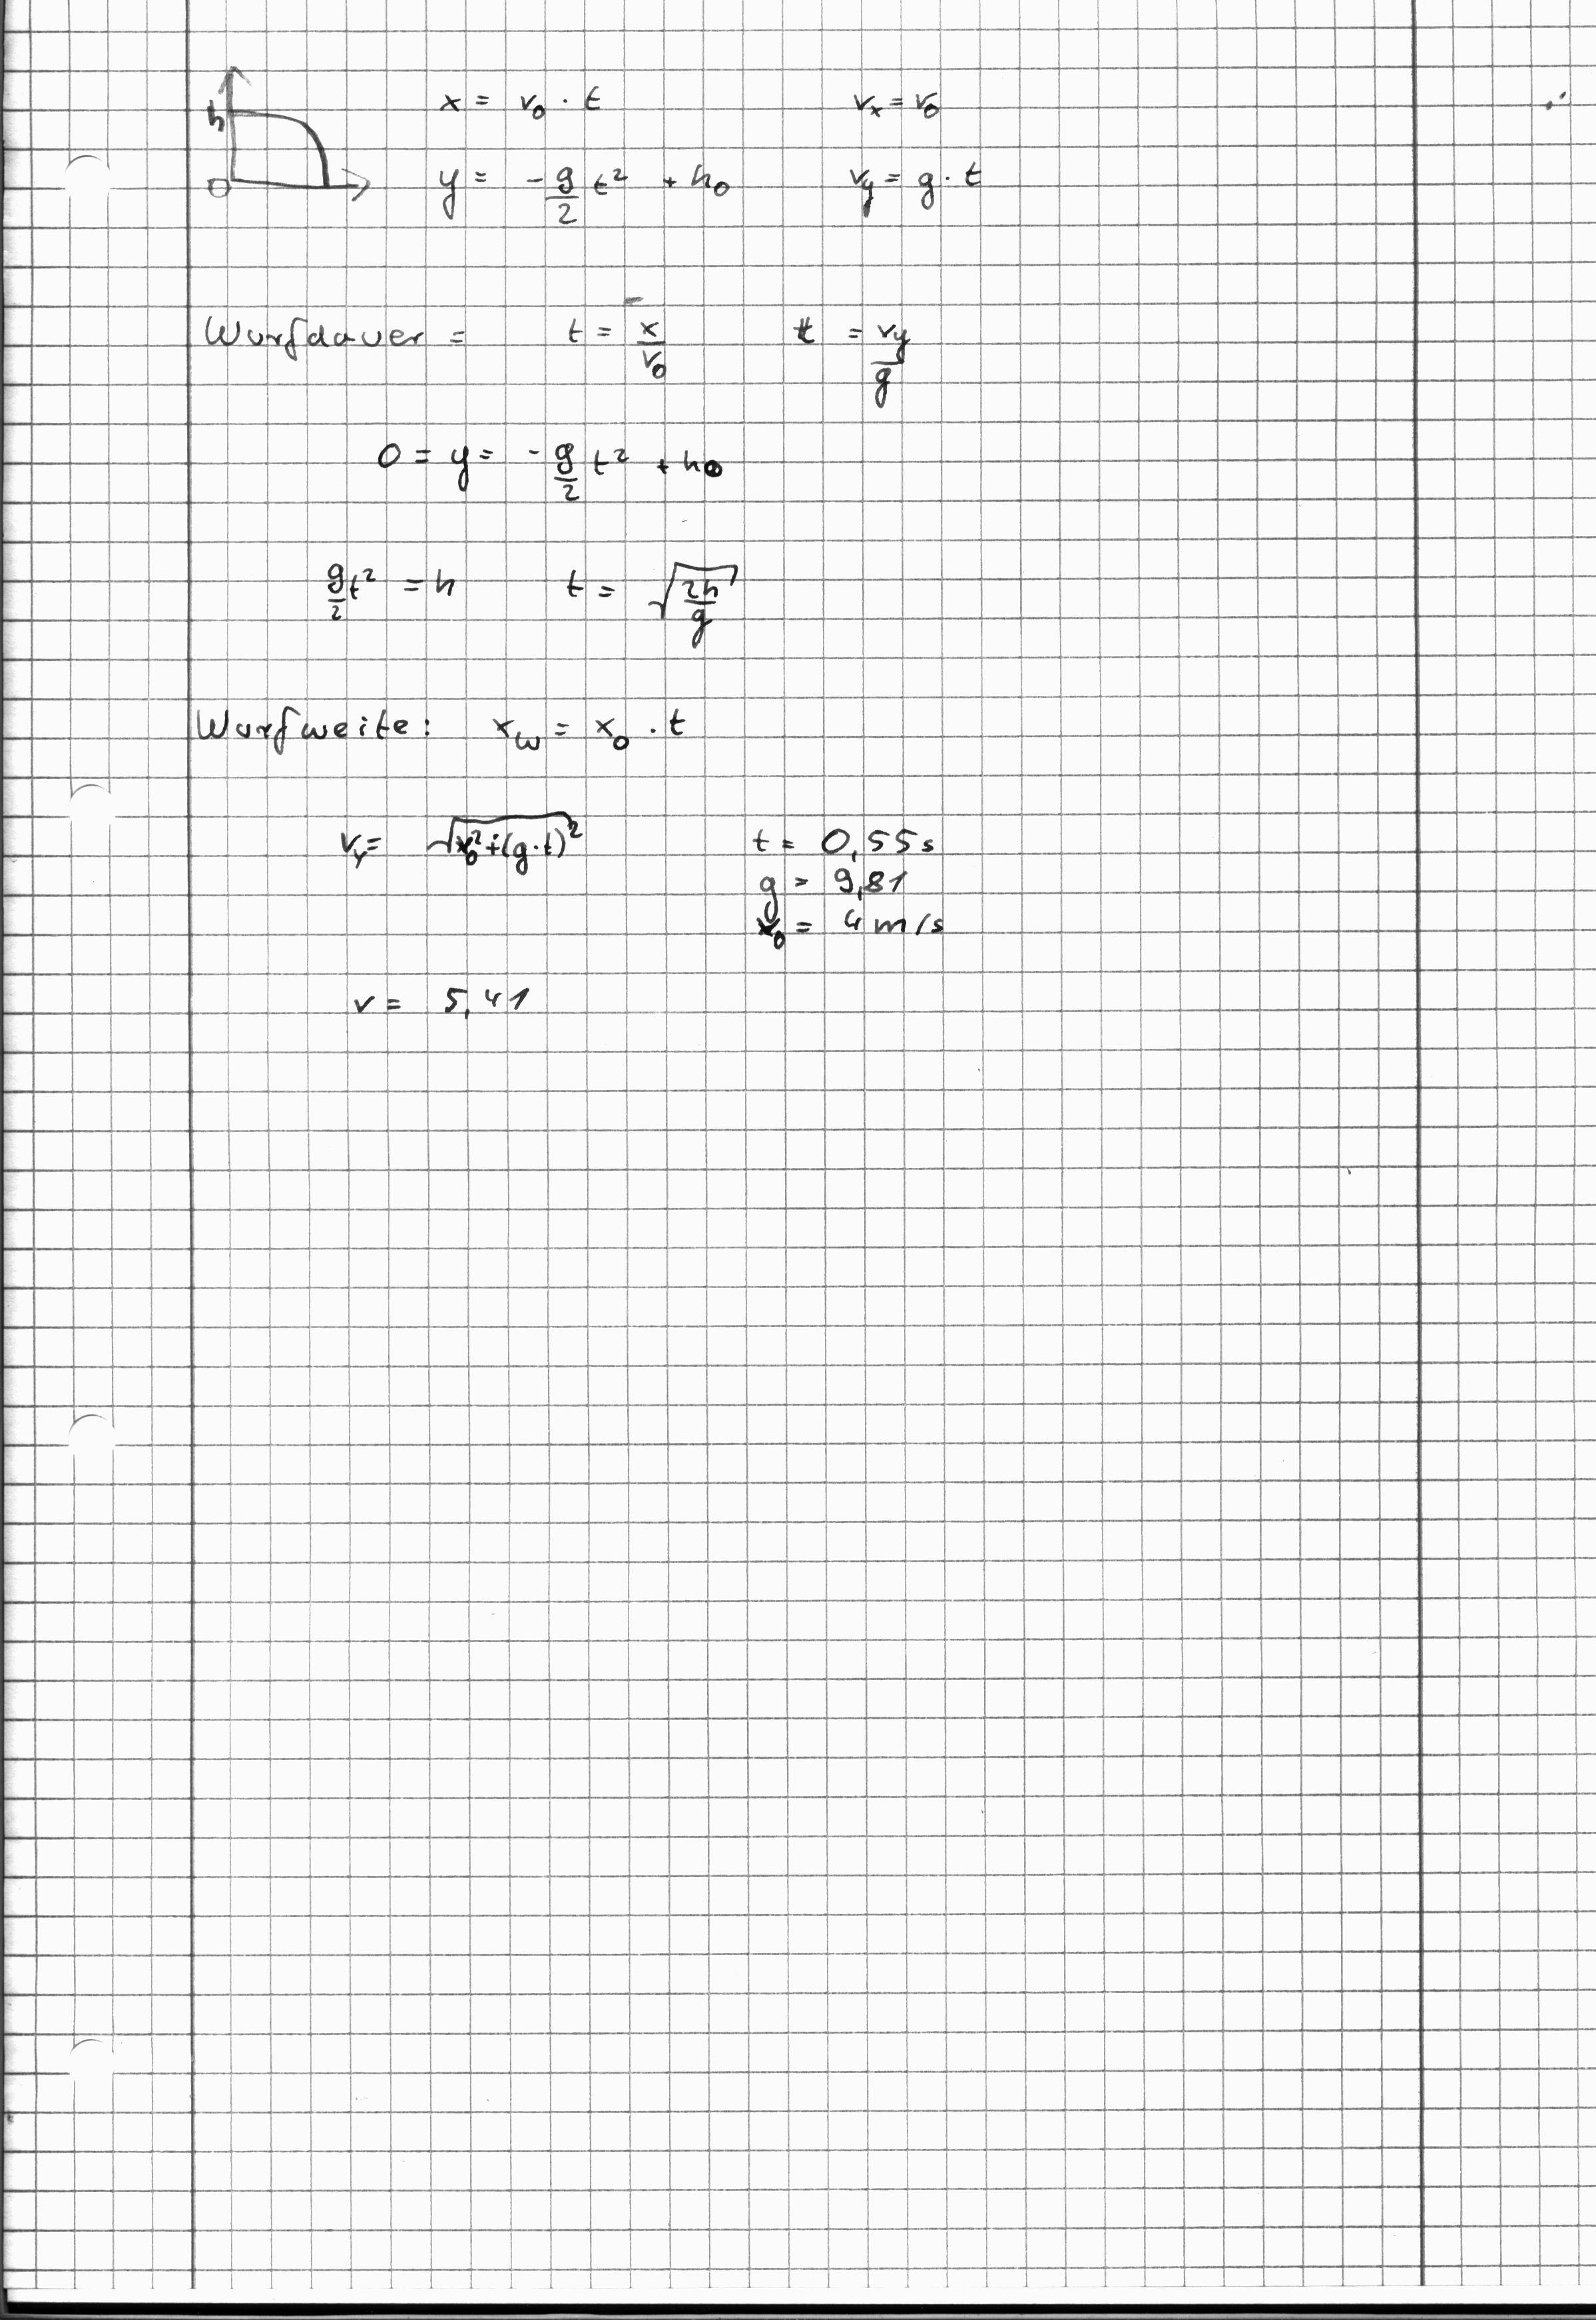word: (367, 419, 731, 529), (731, 795, 963, 964), (313, 780, 609, 893), (429, 140, 746, 239), (190, 282, 484, 382), (548, 536, 763, 663), (174, 677, 451, 760), (298, 529, 491, 645), (475, 683, 708, 778), (778, 288, 935, 422), (334, 947, 548, 1042), (826, 139, 1009, 227), (552, 282, 691, 394), (425, 59, 625, 133), (836, 64, 967, 139)
